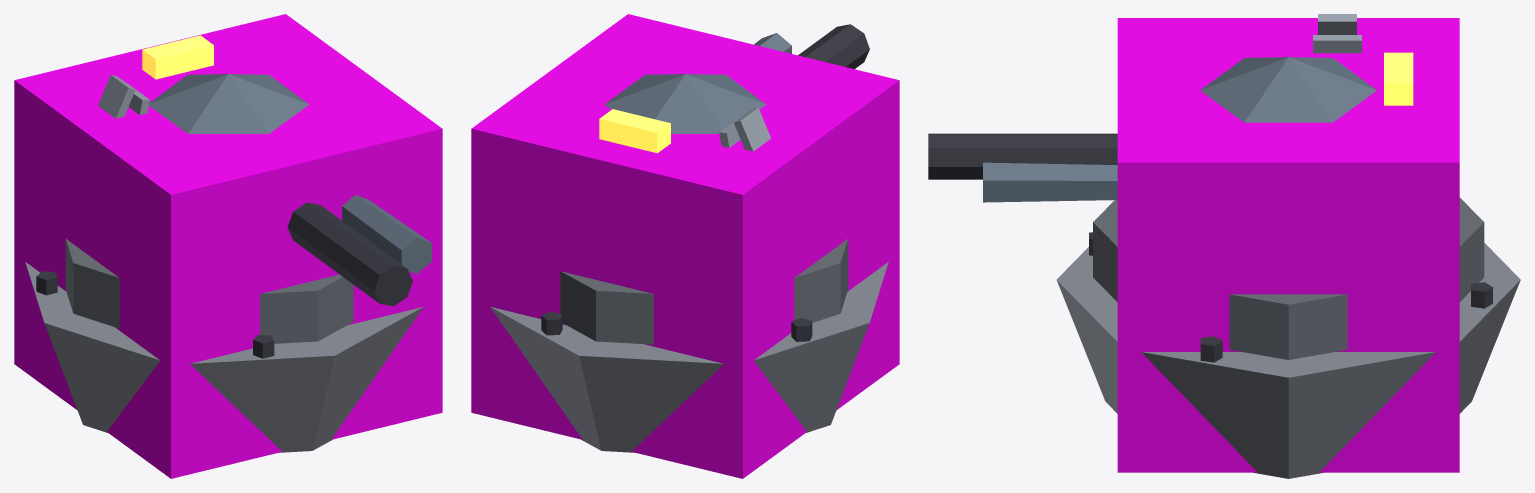
Rendered from turret.glb.
The picture shows the model from 3 angles, left to right: view 1: azimuth 30°, elevation 25°; view 2: azimuth 150°, elevation 25°; view 3: azimuth 270°, elevation 25°; orthographic projection. The views are drawn at different scales.
Parts seen in each view (by area): view 1: Col_main, M_b0, M_b1, DomeMesh, Barrel, Barrel2, Lamp, RadarFin2, M_b3; view 2: Col_main, M_b0, M_b1, DomeMesh, Lamp, Barrel, RadarFin2, M_b3; view 3: Col_main, M_b0, M_b1, DomeMesh, Barrel, Barrel2, Lamp, M_b3, RadarFin, RadarFin2.
Boxes of the visible parts, box(x1,y1,x2,y2) form: Col_main: box(14, 14, 442, 478); M_b0: box(25, 262, 423, 452); M_b1: box(65, 239, 353, 343); DomeMesh: box(149, 74, 309, 133); Barrel: box(287, 202, 412, 306); Barrel2: box(342, 195, 431, 273); Lamp: box(142, 35, 213, 79); RadarFin2: box(98, 75, 135, 118); M_b3: box(36, 271, 274, 358); Col_main: box(471, 14, 899, 478); M_b0: box(490, 262, 888, 452); M_b1: box(560, 239, 848, 344); DomeMesh: box(604, 74, 766, 133); Lamp: box(599, 109, 670, 153); Barrel: box(798, 24, 869, 68); RadarFin2: box(733, 107, 770, 151); M_b3: box(541, 311, 812, 341); Col_main: box(1117, 18, 1459, 472); M_b0: box(1056, 243, 1520, 478); M_b1: box(1093, 197, 1484, 359); DomeMesh: box(1200, 57, 1376, 122); Barrel: box(928, 133, 1117, 179); Barrel2: box(983, 162, 1117, 202); Lamp: box(1384, 52, 1413, 105); M_b3: box(1089, 232, 1492, 362); RadarFin: box(1313, 35, 1361, 53); RadarFin2: box(1318, 14, 1356, 34).
Size of the model in its own units: 1.9 by 1.55 by 2.43.
